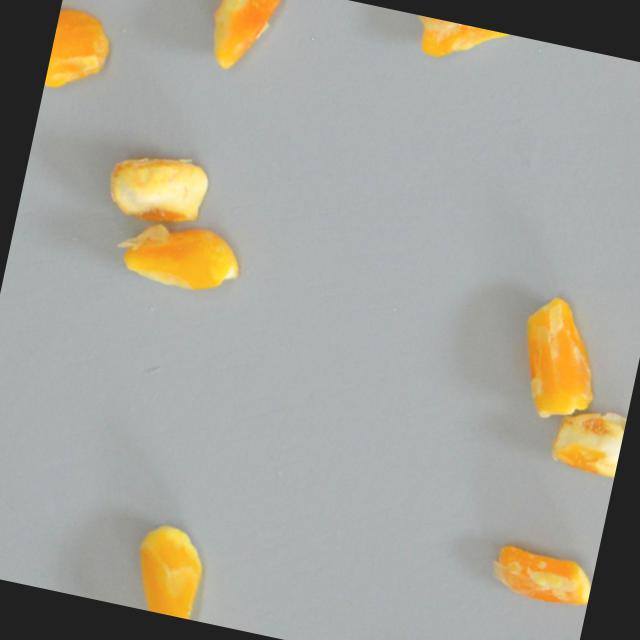pelicula: (505, 291, 610, 427), (107, 207, 247, 300), (100, 142, 211, 231), (124, 519, 209, 620), (483, 538, 596, 612), (43, 3, 117, 98), (545, 400, 627, 478), (199, 0, 280, 77), (409, 13, 510, 71)
